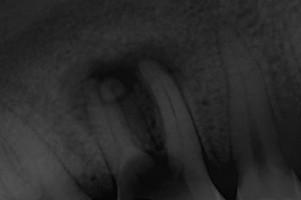Dental Caries: (56, 38, 185, 173)
